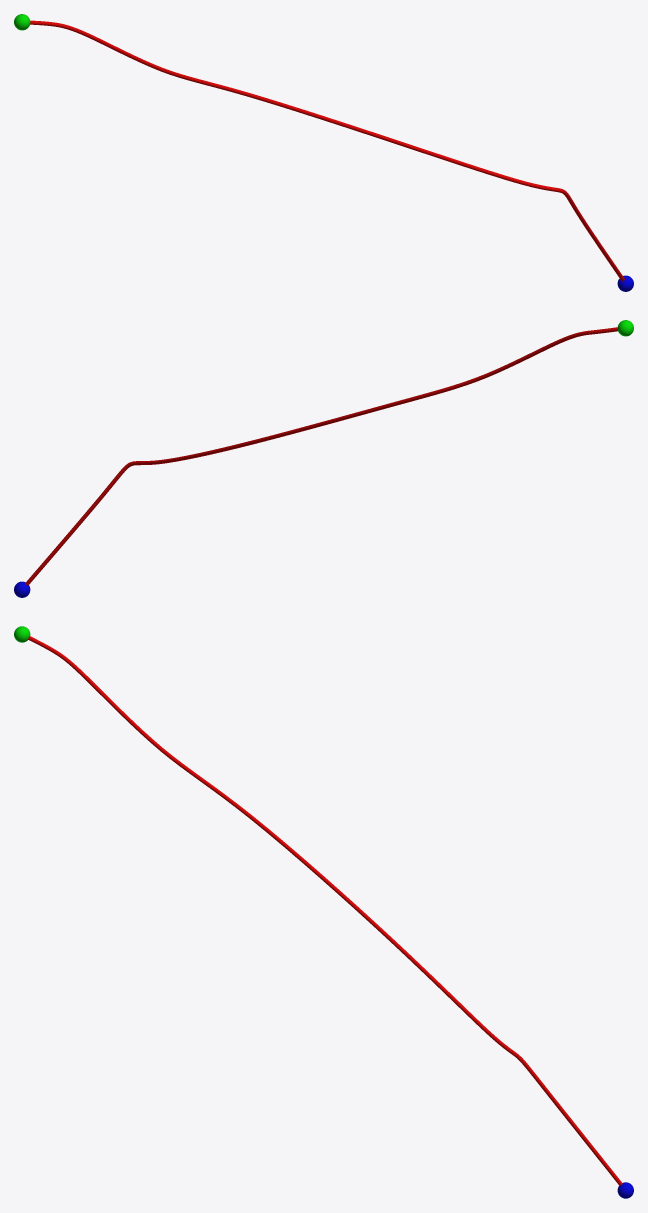
File: paths.obj
The picture shows the model from 3 angles, top to bottom: view 1: azimuth 30°, elevation 25°; view 2: azimuth 150°, elevation 25°; view 3: azimuth 330°, elevation 25°; orthographic projection.
Size of the model in its own units: 1.74 by 1.14 by 0.1349.
